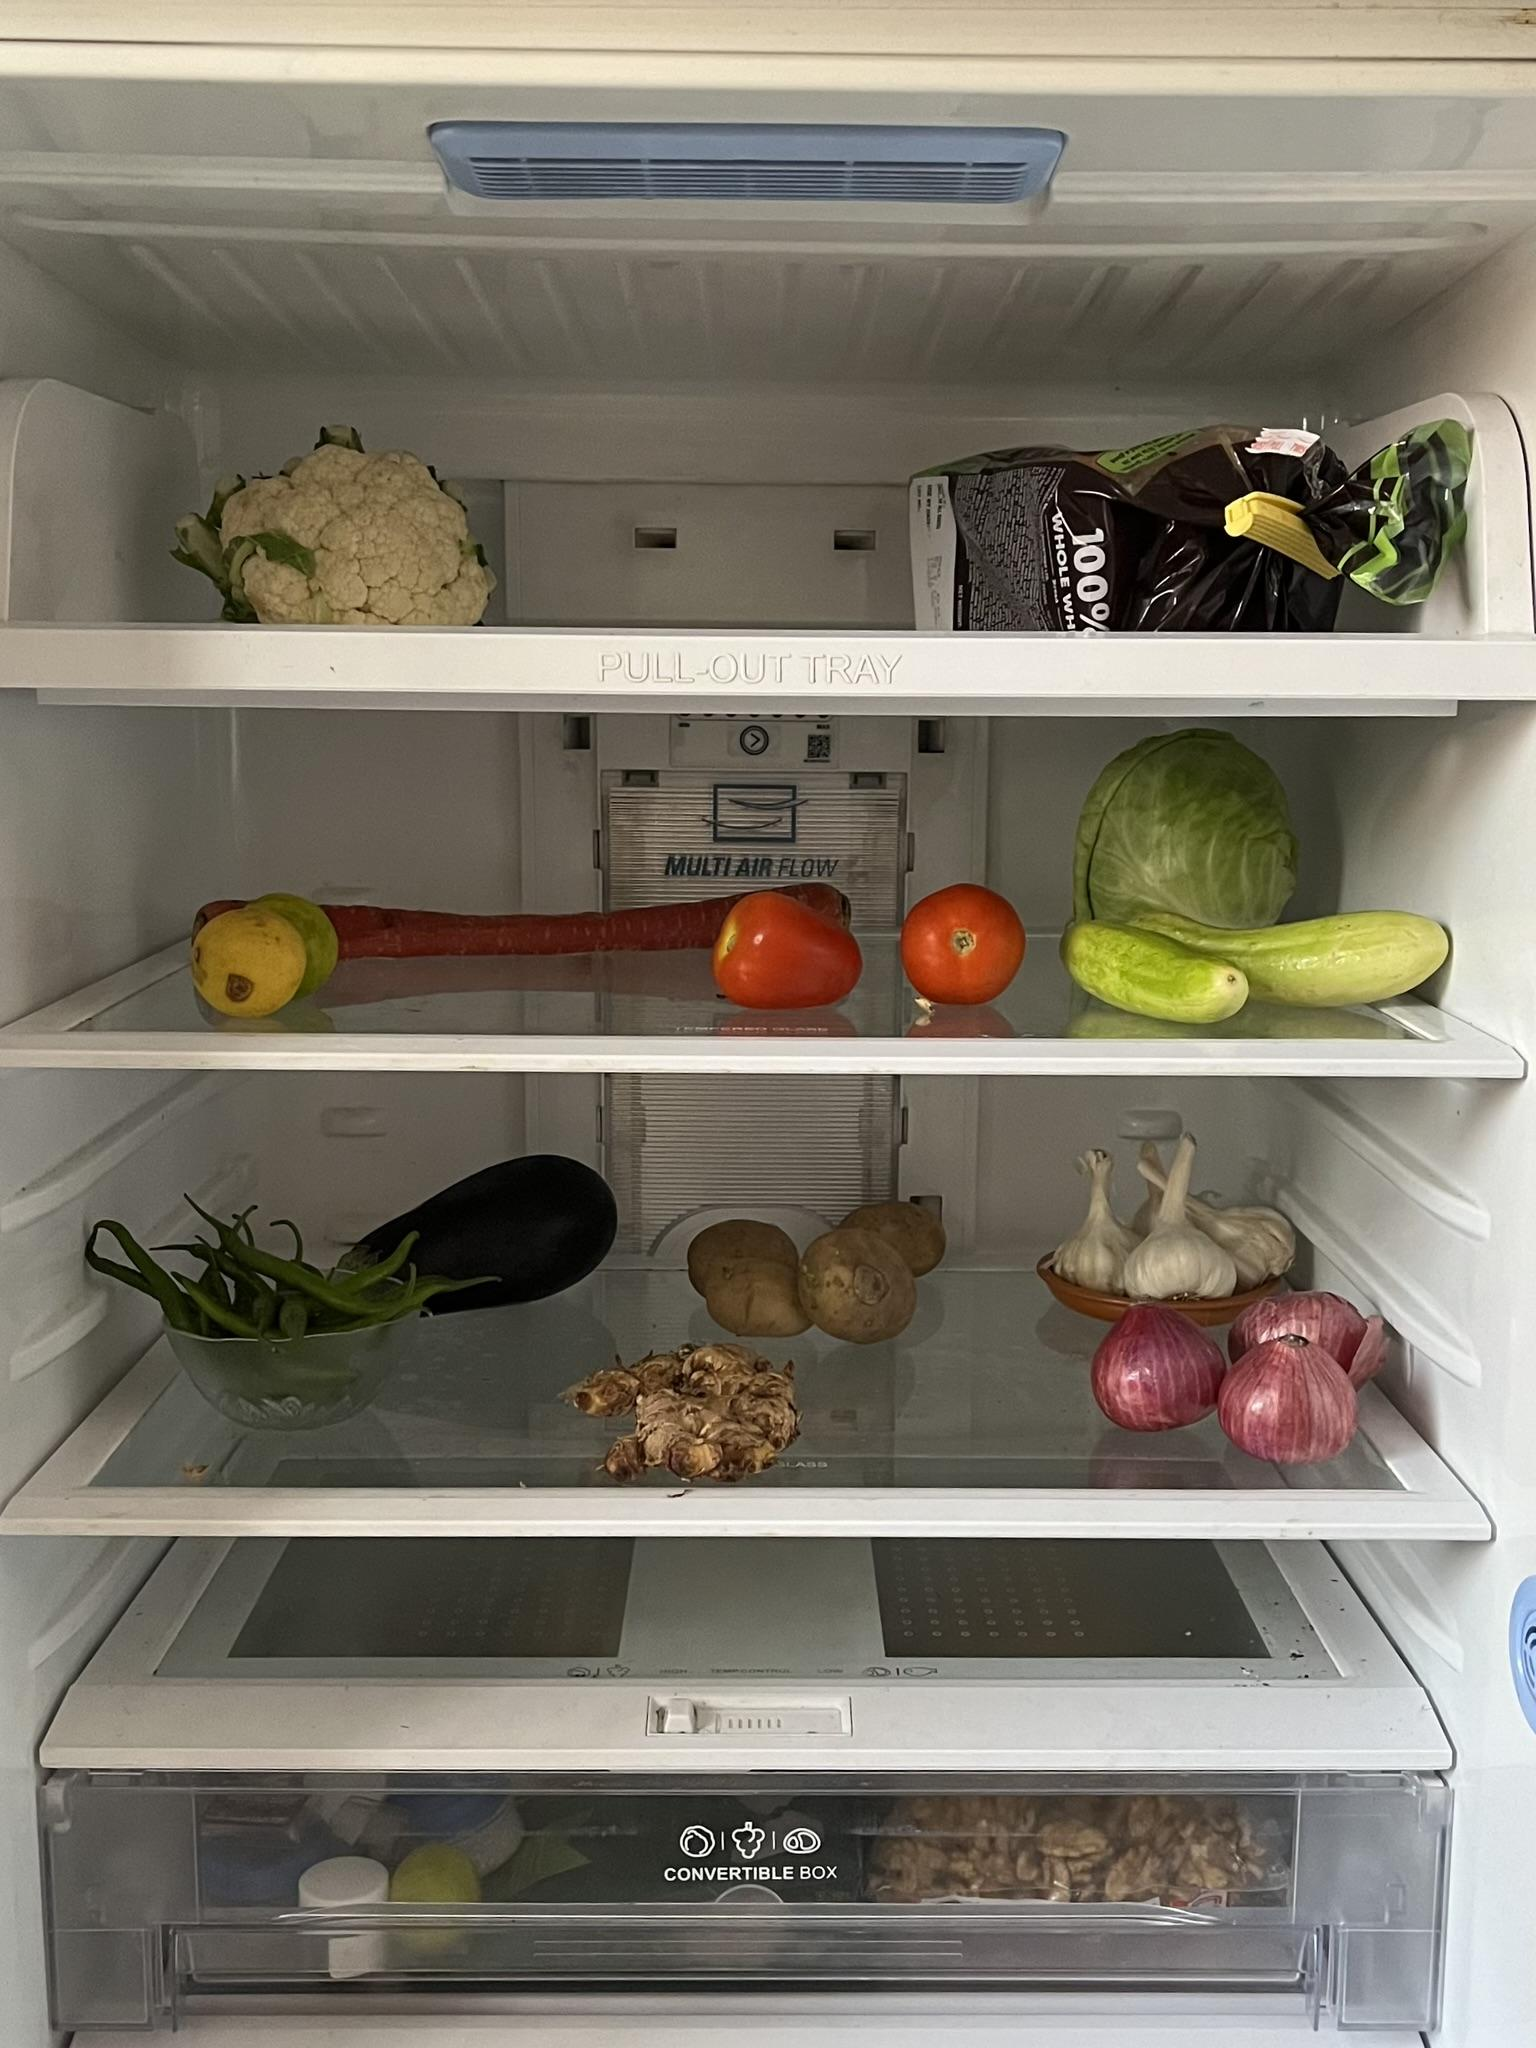bread: (904, 406, 1483, 637)
bringal: (334, 1140, 634, 1316)
cabbage: (1073, 731, 1307, 927)
carrots: (184, 893, 883, 953)
cauliflower: (173, 427, 497, 627), (190, 884, 344, 1024)
chillies: (81, 1206, 447, 1424)
garlic: (1057, 1134, 1304, 1297)
ginger: (563, 1337, 807, 1477)
onion: (1100, 1287, 1394, 1456)
potato: (694, 1197, 960, 1340)
tomato: (710, 897, 863, 1009), (904, 887, 1029, 1003)
